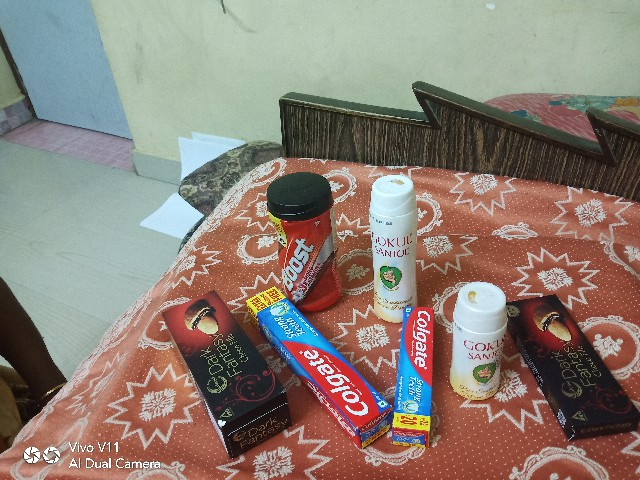boost small: (264, 166, 348, 311)
colgatetoothpaste big: (246, 280, 388, 448)
colgatetoothpaste small: (392, 299, 437, 447)
darkfantasy big: (151, 281, 291, 457)
darkfantasy small: (507, 292, 640, 442)
gokulsantol big: (360, 170, 418, 320)
gokulsantol small: (449, 273, 509, 416)
